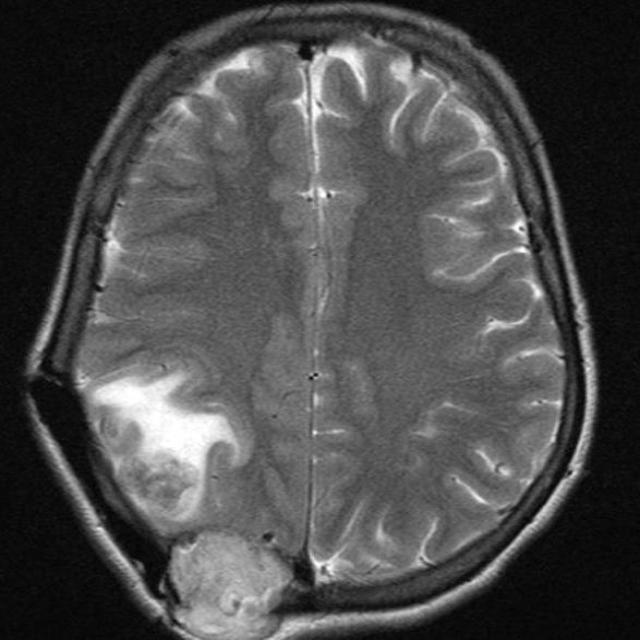brain tumor: (72, 362, 245, 532)
